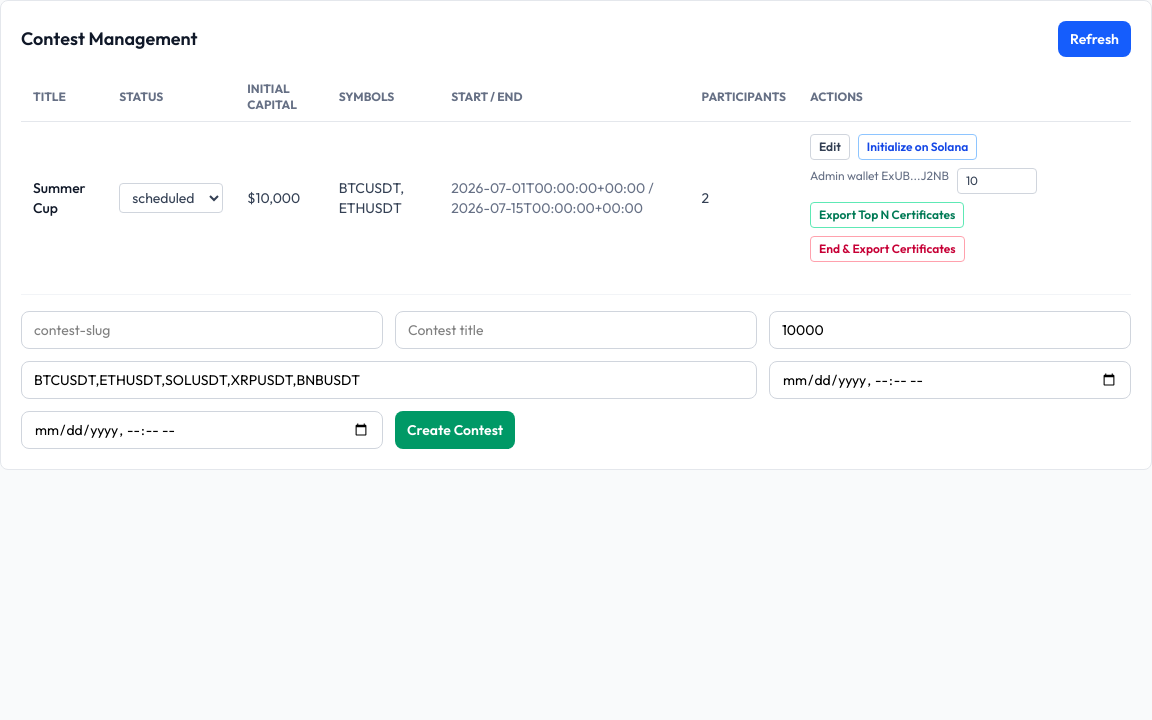
Test: TabContests › exports contest certificates and displays root publishing details
Replace the text in the number field with test id "certificate-topn-summer-cup" with "5": point(997, 181) [957,168,1037,194]
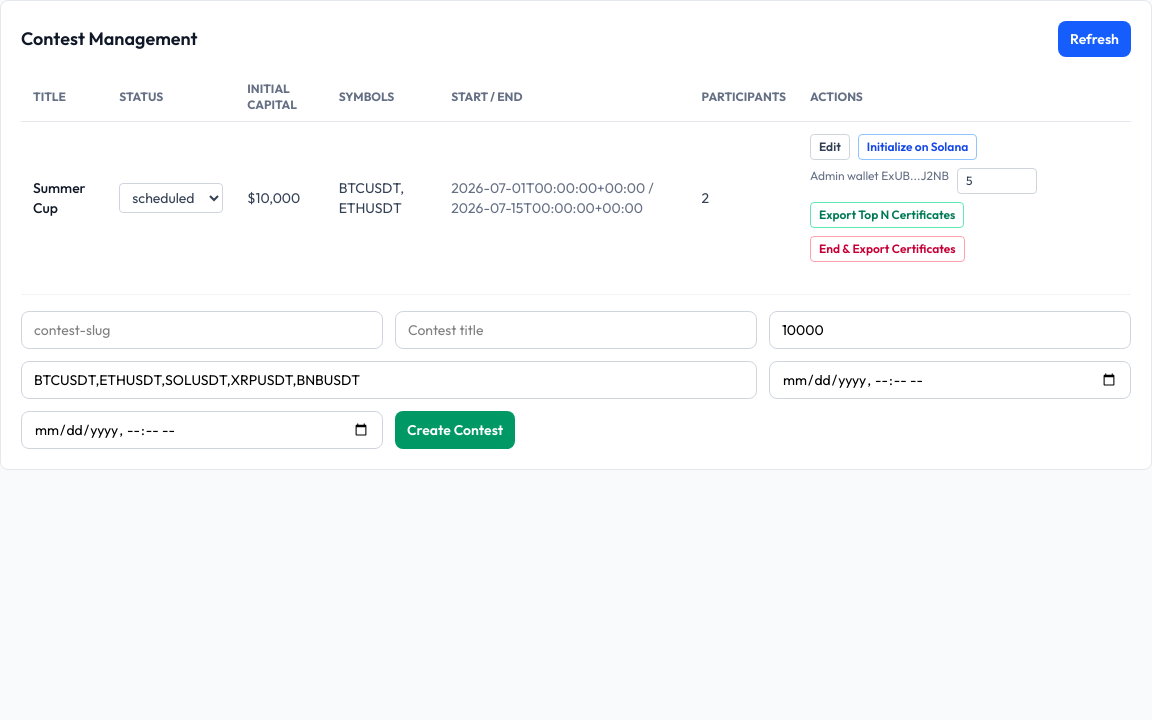
Click the button with test id "export-certificates-summer-cup": point(887, 215) [810,202,964,228]
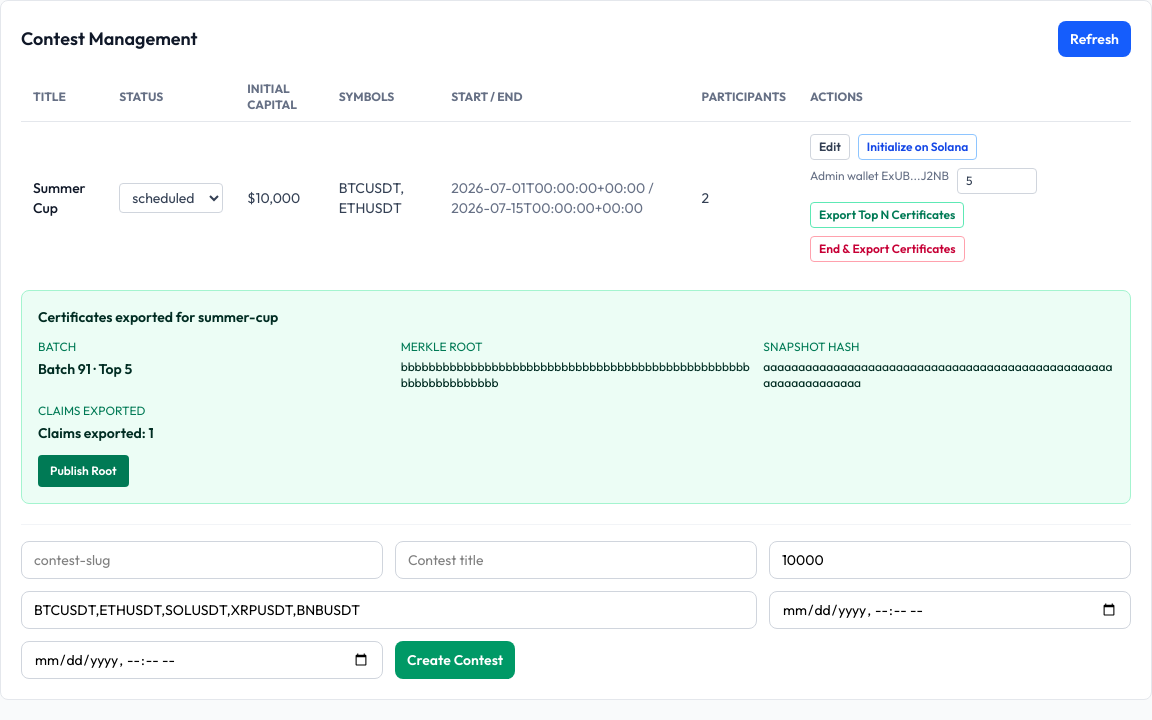
Now the text "Merkle root" is shown, box [401,339,482,354]
Now the text "Claims exported: 1" is shown, box [38,424,154,442]
Now the text "Batch 91" is shown, box [38,360,132,378]
Click the button with test id "publish-certificate-root": point(83, 471) [38,455,129,487]
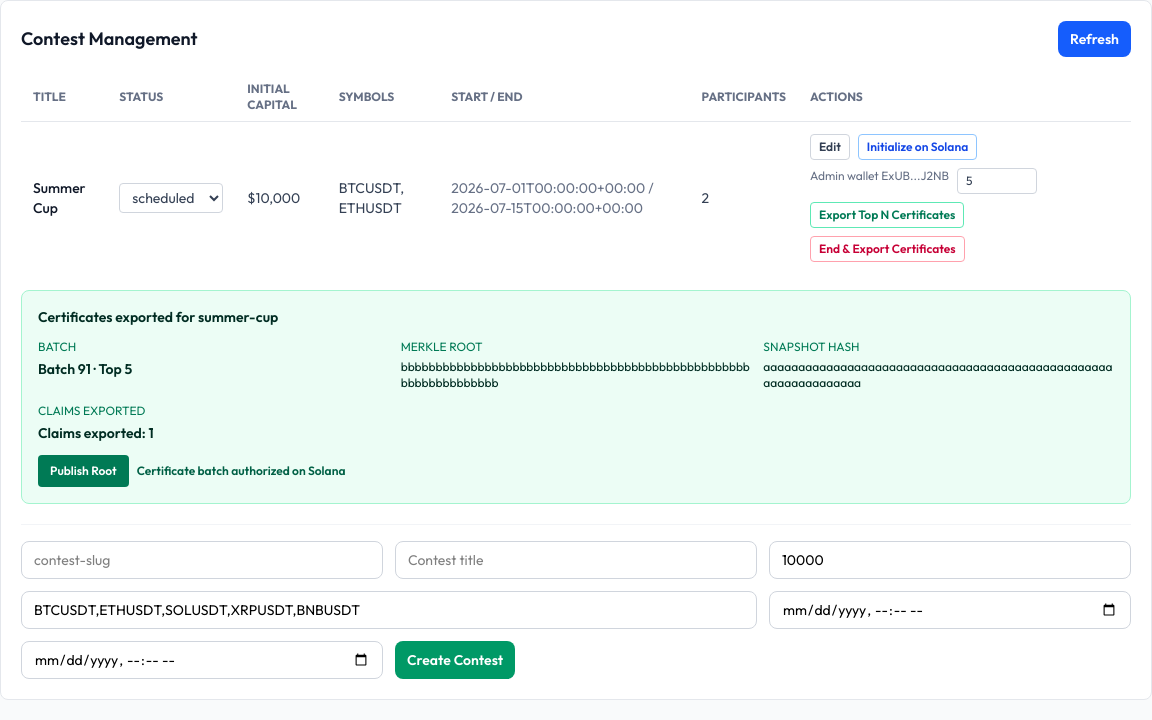
Now the text "Certificate batch authorized on Solana" is shown, box [137,463,346,479]
